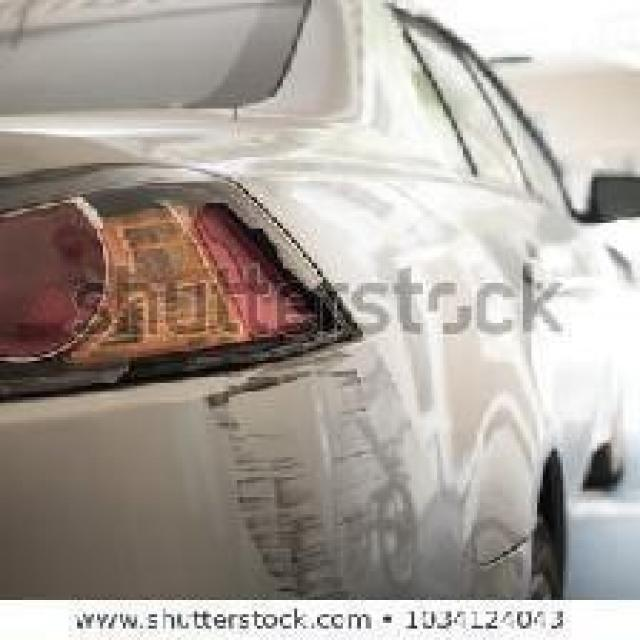damaged: (206, 357, 420, 603)
